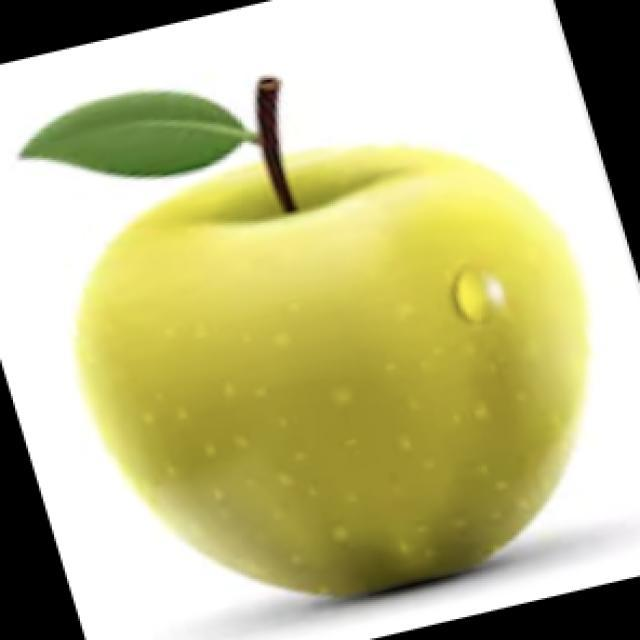Fresh Apple: (36, 145, 592, 640)
